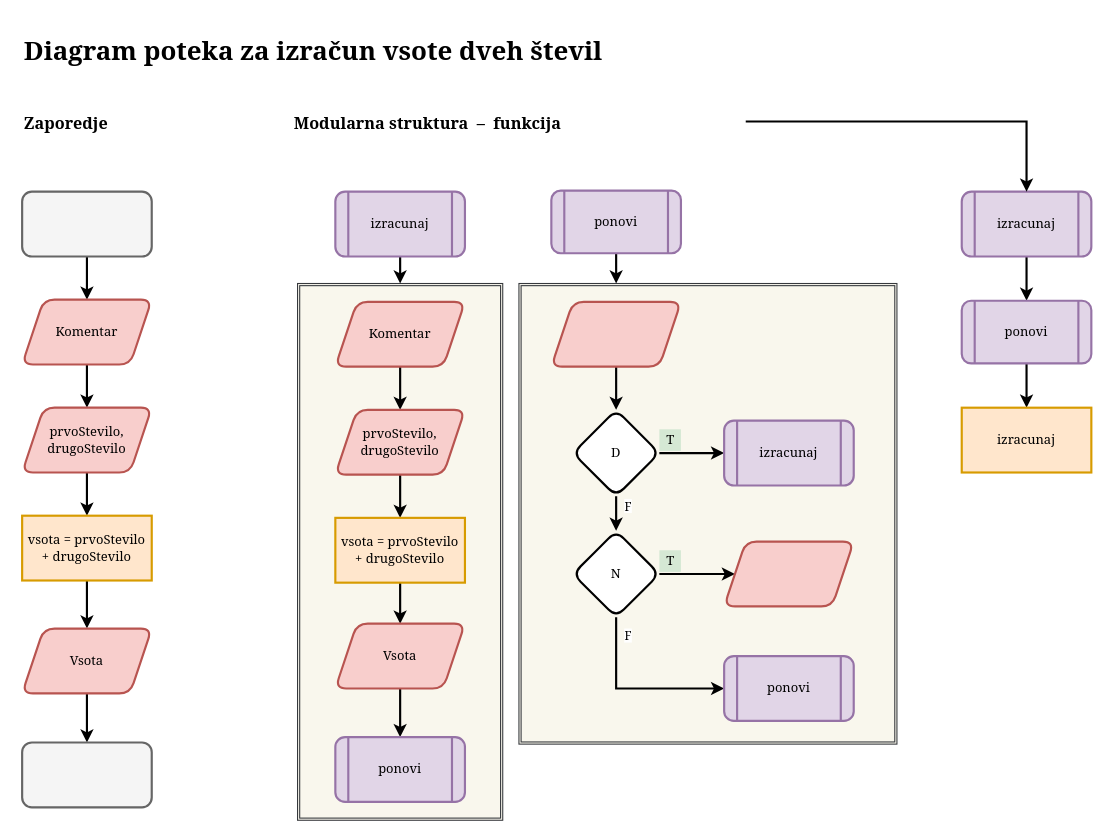
The diagram is 1110 pixels wide and 839 high, and some of its shapes have lost their labels. Each missing label, with the centre of its shape:
"Konec" belongs at pixel 86 774.
"ponovim" belongs at pixel 615 333.
"Začetek" belongs at pixel 86 223.
"”niz”" belongs at pixel 788 573.
